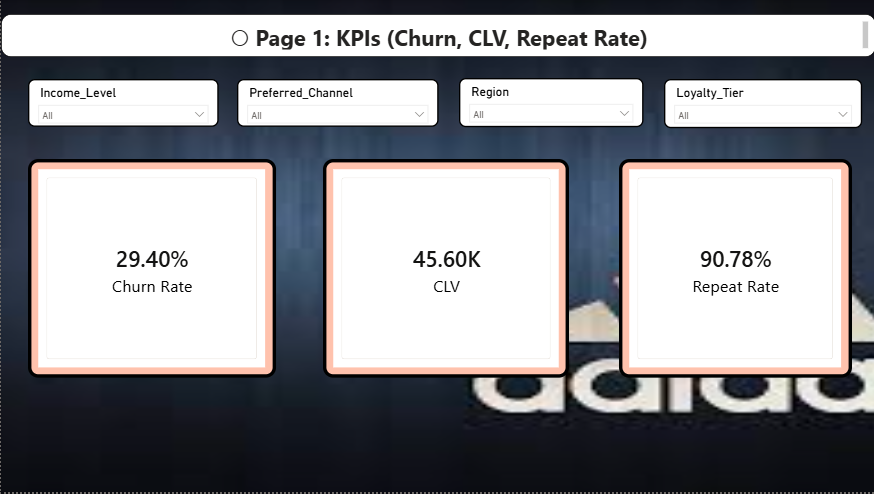

The page's visual inventory and layout, read from the dashboard file:
{"tool":"powerbi","page":{"name":"Task-7(1)","canvas":[1280,720],"ordinal":9},"visuals":[{"type":"cardVisual","fields":{"Data":["Measure.Churn Rate"]},"box":[39.5,232.7,362.9,320.5],"z":0},{"type":"cardVisual","fields":{"Data":["Measure.CLV"]},"box":[471.2,232.7,360,320.5],"z":1000},{"type":"cardVisual","fields":{"Data":["Measure.Repeat Rate"]},"box":[904.4,232.7,341,320.5],"z":2000},{"type":"textbox","box":[0,20.5,1280.5,62.9],"z":3000},{"type":"slicer","fields":{"Values":["Customer_Demographics.Income_Level"]},"box":[39.3,116.2,278.9,69.7],"z":4000},{"type":"slicer","fields":{"Values":["Customer_Demographics.Preferred_Channel"]},"box":[345,116.2,295,69.7],"z":5000},{"type":"slicer","fields":{"Values":["Customer_Demographics.Region"]},"box":[670.4,114.4,269.9,71.5],"z":6000},{"type":"slicer","fields":{"Values":["Loyalty_Program.Loyalty_Tier"]},"box":[970.7,116.2,289.6,71.5],"z":7000}]}

Visuals, with their boxes in screenshot pixels (x1, y1, x2, y2), scaled from the page's 1280x720 canvas onto the 874x494 screenshot:
cardVisual - Measure.Churn Rate: crop(27, 160, 275, 380)
cardVisual - Measure.CLV: crop(322, 160, 568, 380)
cardVisual - Measure.Repeat Rate: crop(618, 160, 850, 380)
textbox: crop(0, 14, 873, 57)
slicer - Customer_Demographics.Income_Level: crop(27, 80, 217, 128)
slicer - Customer_Demographics.Preferred_Channel: crop(236, 80, 437, 128)
slicer - Customer_Demographics.Region: crop(458, 78, 642, 128)
slicer - Loyalty_Program.Loyalty_Tier: crop(663, 80, 861, 129)
